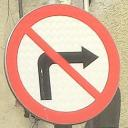NoVirarDireita: (2, 2, 128, 124)
